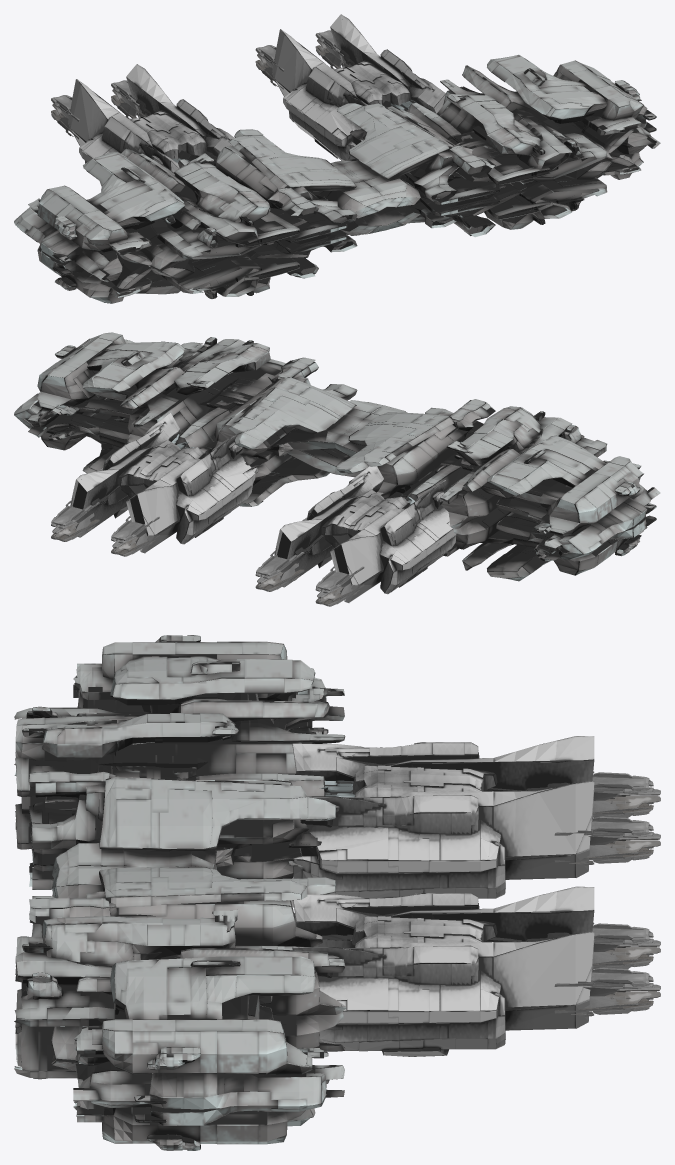
The model's file is CARIER_003.fbx.
3 views of the same model, one above another, from view 1: azimuth 30°, elevation 25°; view 2: azimuth 150°, elevation 25°; view 3: azimuth 270°, elevation 25° (orthographic). The views are drawn at different scales.
Visible parts, largest first — view 1: CARIER_003; view 2: CARIER_003; view 3: CARIER_003.
Part boxes in pixels (x1,y1,x2,y2): CARIER_003: (14,14,660,303); CARIER_003: (14,332,660,606); CARIER_003: (14,635,660,1150).
Bounding box in the file's own units: 211 × 36.2 × 131.
